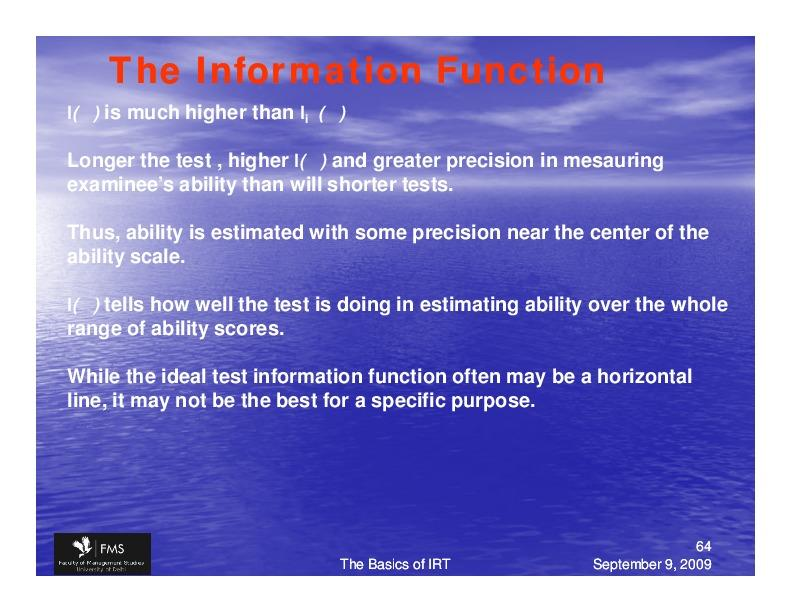paragraph: (52, 96, 737, 450)
title: (104, 43, 616, 101)
